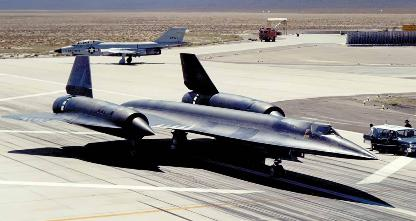F35: (48, 26, 188, 63)
Rafale: (0, 52, 390, 177)
